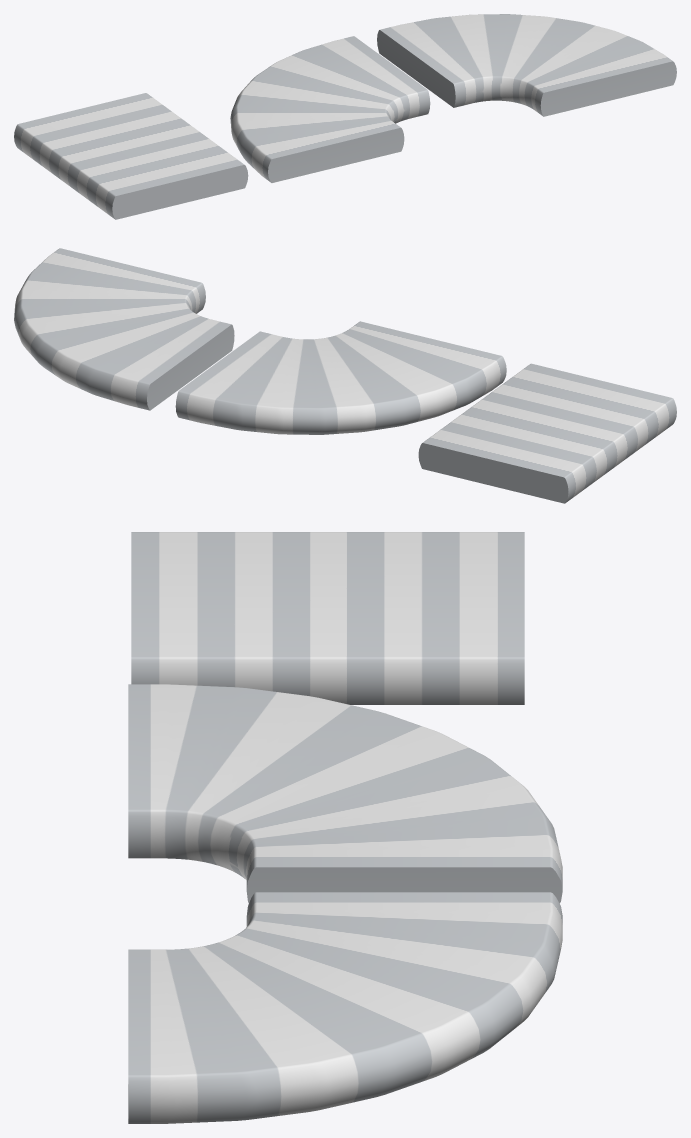
Rendered from WitchRunnerRoad.fbx.
The picture shows the model from 3 angles, top to bottom: view 1: azimuth 30°, elevation 25°; view 2: azimuth 150°, elevation 25°; view 3: azimuth 270°, elevation 25°; orthographic projection. The views are drawn at different scales.
Visible parts, largest first — view 1: Right, Left, Road-Short; view 2: Left, Right, Road-Short; view 3: Right, Left, Road-Short.
Part boxes in pixels (box(x1,y1,x2,y2)): Right: box(377, 14, 676, 116); Left: box(230, 36, 430, 182); Road-Short: box(14, 93, 248, 219); Left: box(175, 321, 506, 434); Right: box(14, 248, 234, 410); Road-Short: box(418, 363, 676, 503); Right: box(128, 892, 562, 1123); Left: box(128, 684, 562, 903); Road-Short: box(131, 532, 524, 704).
Bounding box in the file's own units: 4565 × 189 × 1523.
1 material, 1 textured.
